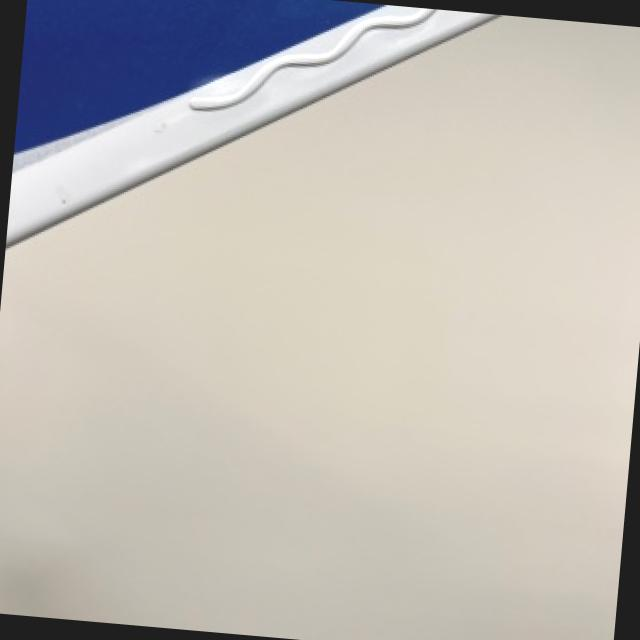healthy: (6, 4, 492, 241)
